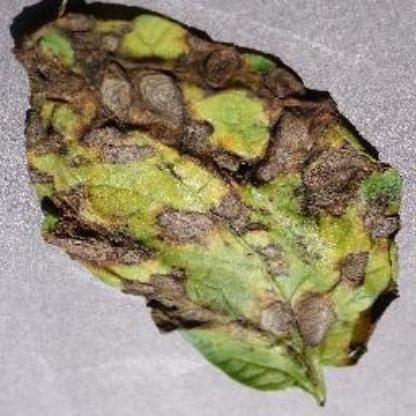Early-Blight: (11, 7, 407, 403)
